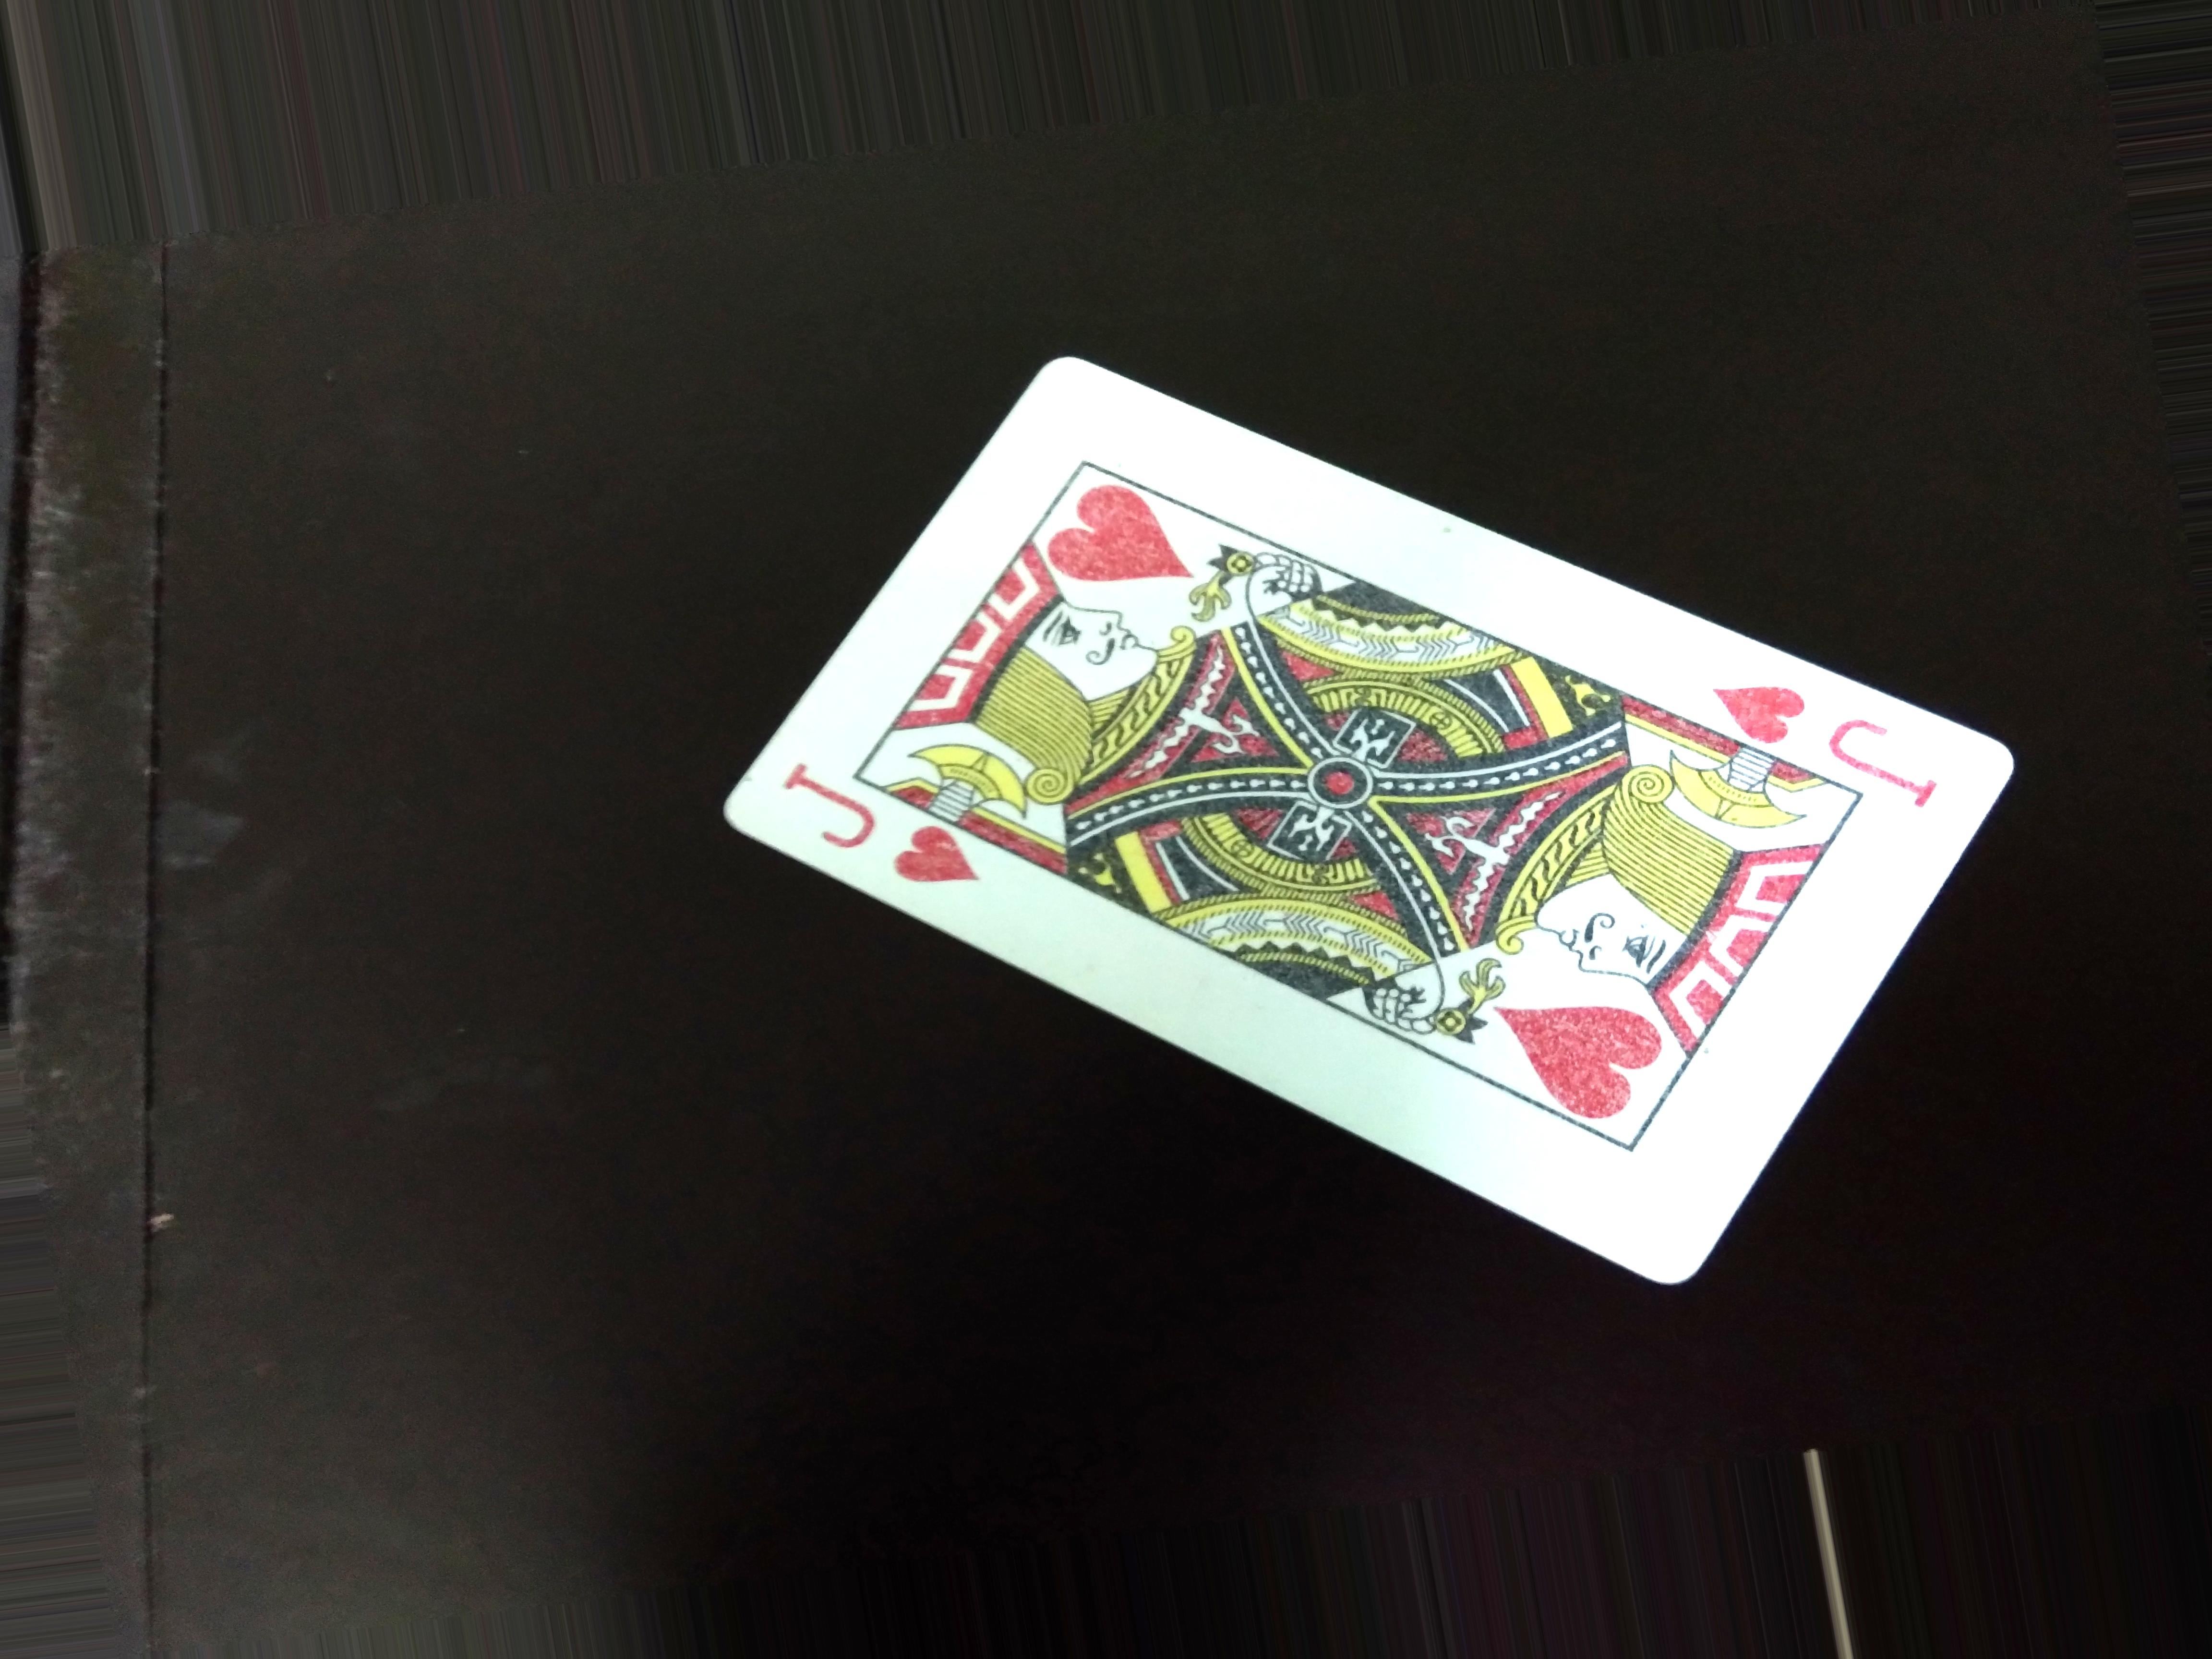JH: (770, 755, 972, 913)
